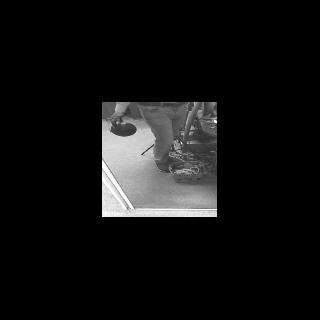kettlebell: (106, 115, 136, 137)
